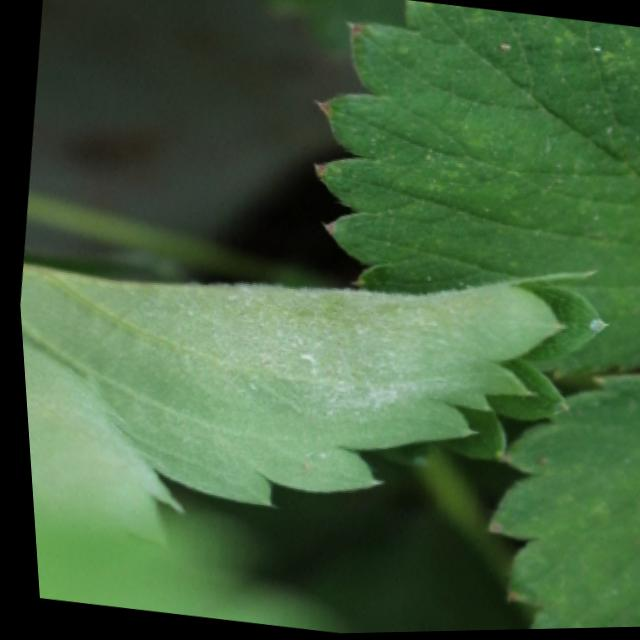Powdery Mildew Leaf: (16, 260, 606, 515)
